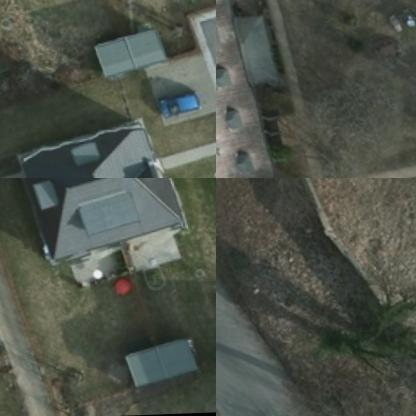car: (154, 84, 200, 122)
